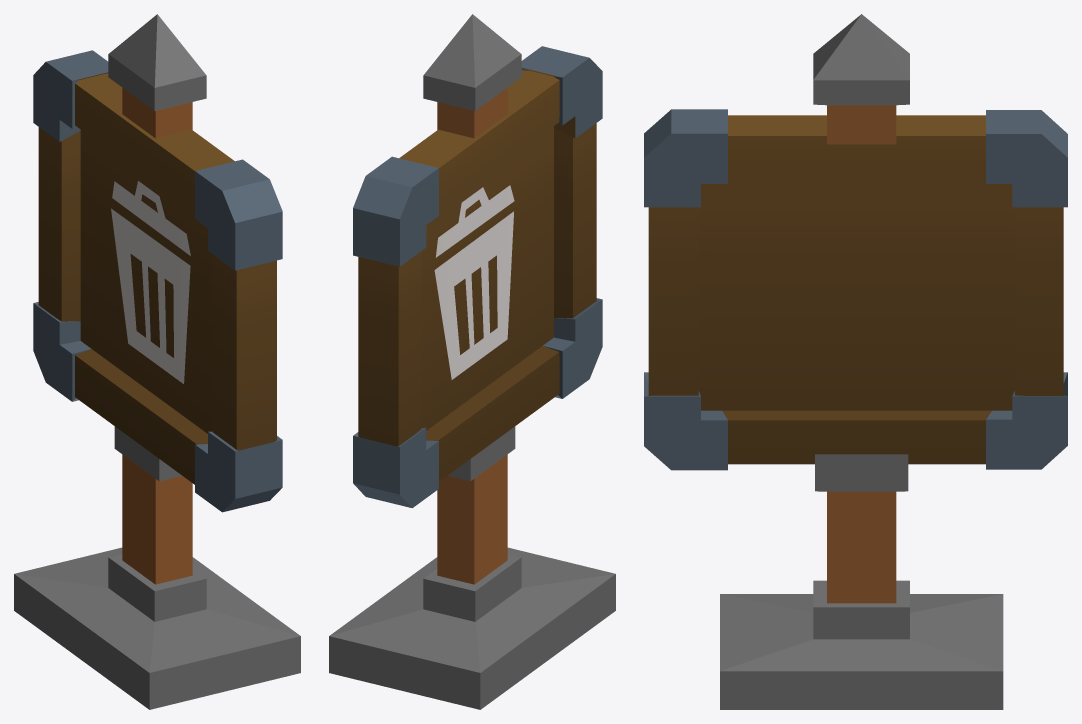
File: trashcan_pan.fbx
The picture shows the model from 3 angles, left to right: view 1: azimuth 30°, elevation 25°; view 2: azimuth 150°, elevation 25°; view 3: azimuth 270°, elevation 25°; orthographic projection. The views are drawn at different scales.
Visible parts, largest first — view 1: Trashcan_pan; view 2: Trashcan_pan; view 3: Trashcan_pan.
Boxes of the visible parts, left/top/right/bottom form: Trashcan_pan: left=14, top=14, right=300, bottom=709; Trashcan_pan: left=329, top=14, right=615, bottom=709; Trashcan_pan: left=644, top=14, right=1067, bottom=709.
Bounding box in the file's own units: 43.08 × 99.78 × 171.
1 material, 1 textured.
